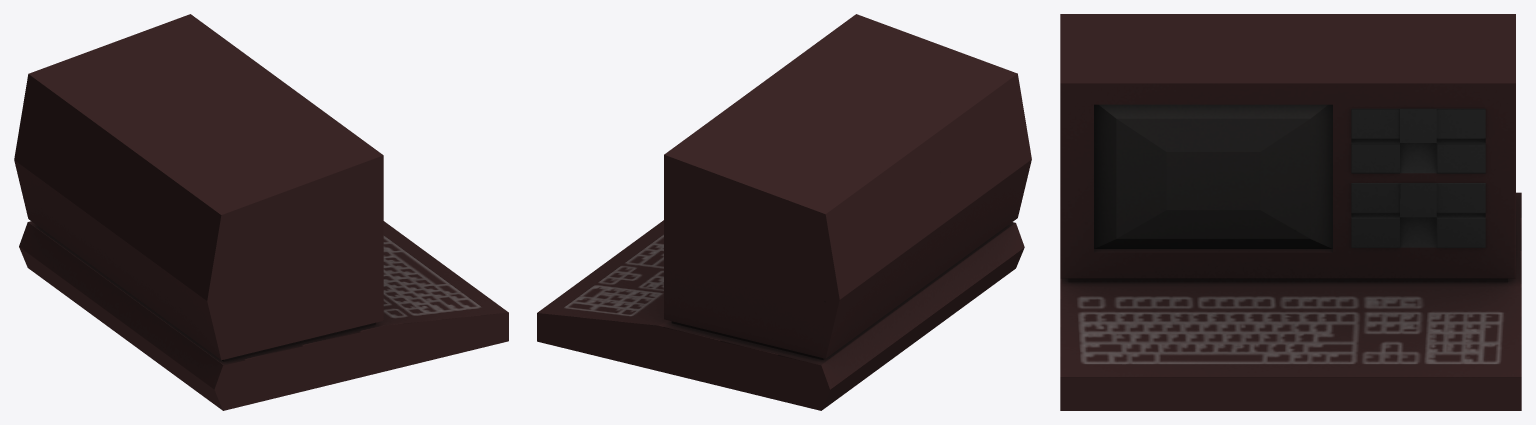
File: Computer_Objective.fbx
3 renders of one model, left to right at view 1: azimuth 30°, elevation 25°; view 2: azimuth 150°, elevation 25°; view 3: azimuth 270°, elevation 25°, orthographic. The views are drawn at different scales.
Parts seen in each view (by area): view 1: Computer; view 2: Computer; view 3: Computer.
Part boxes in pixels (x1=…): Computer: x1=14, y1=14, x2=508, y2=410; Computer: x1=537, y1=14, x2=1031, y2=410; Computer: x1=1060, y1=14, x2=1521, y2=410.
Size of the model in its own units: 3.56 by 2.44 by 3.99.
